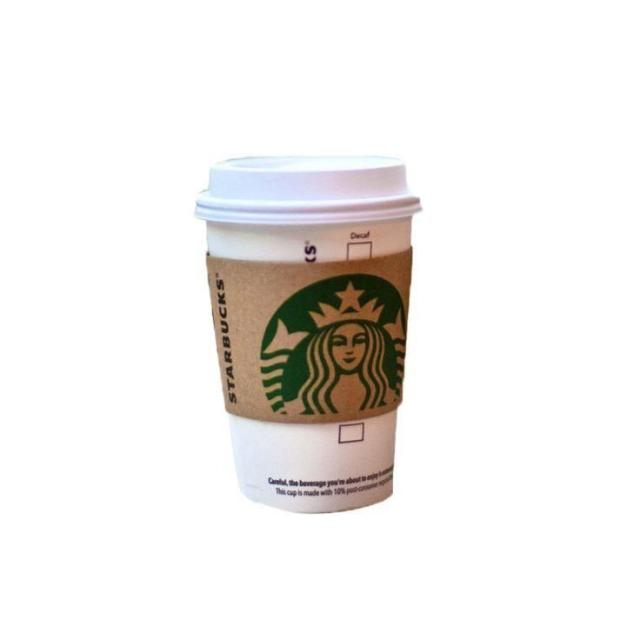paper cup: (195, 154, 423, 513)
